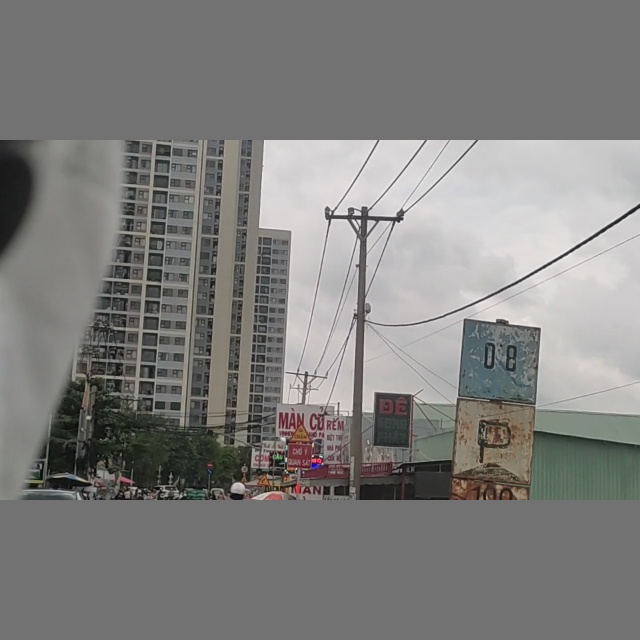W.245a: (289, 421, 313, 443)
